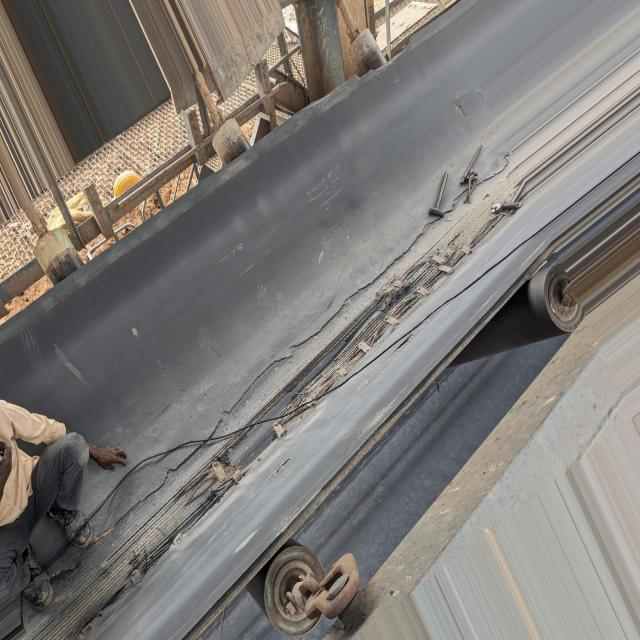Human: (0, 398, 134, 608)
Other Objects: (459, 145, 481, 205), (429, 173, 447, 218)
Roller: (456, 265, 582, 367), (245, 535, 322, 632), (32, 228, 86, 285), (213, 118, 251, 169), (348, 30, 386, 75)
Tear: (8, 173, 518, 640)
